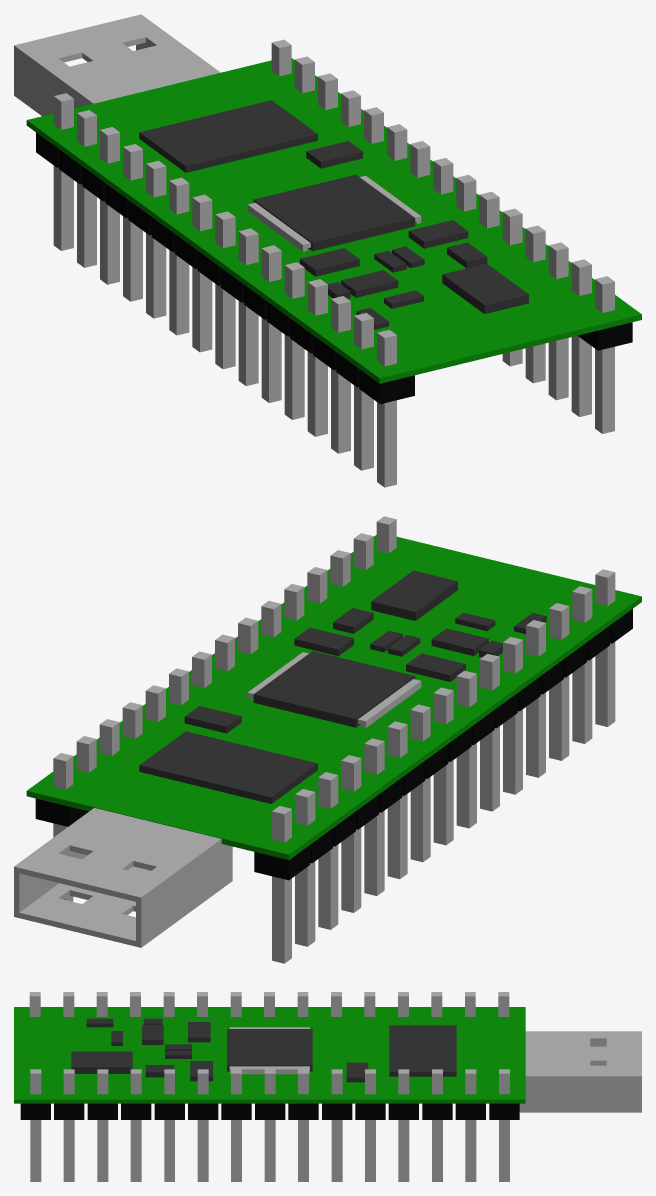
The model's file is MicroController.glb.
3 views of the same model, one above another, from view 1: azimuth 30°, elevation 25°; view 2: azimuth 150°, elevation 25°; view 3: azimuth 270°, elevation 25° (orthographic). The views are drawn at different scales.
Visible parts, largest first — view 1: Base; view 2: Base; view 3: Base.
Boxes of the visible parts, x1,y1,x2,y2 form: Base: [14, 14, 641, 487]; Base: [14, 516, 641, 963]; Base: [14, 992, 641, 1181].
Bounding box in the file's own units: 0.0248 × 0.0135 × 0.0709.
1 material, 1 textured.
